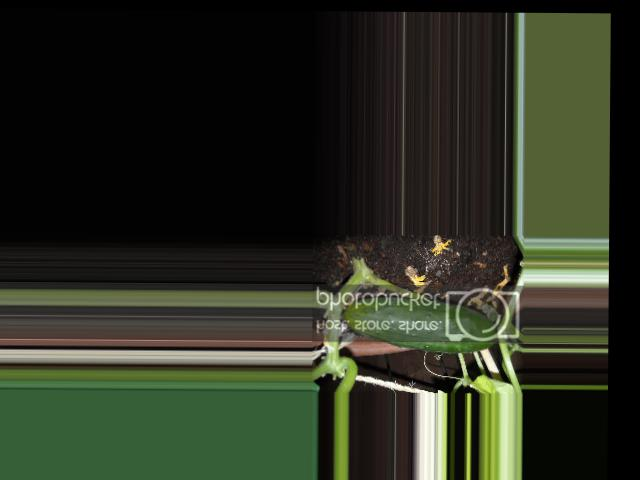cucumber: (344, 295, 496, 353)
